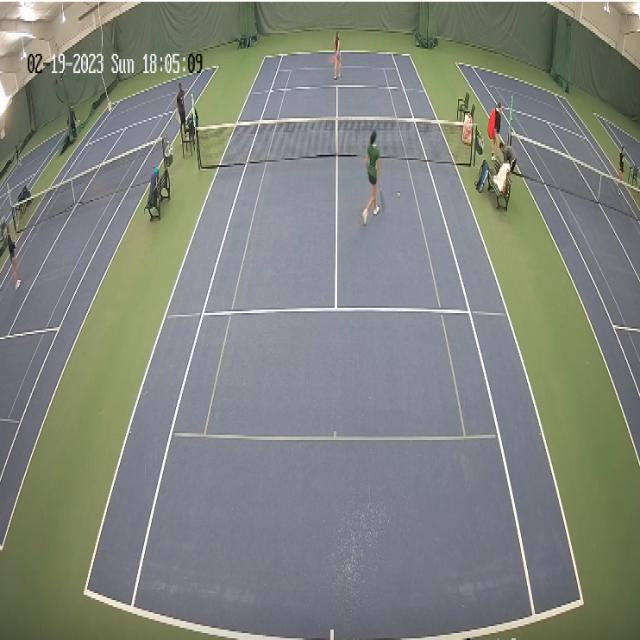ball: (398, 192, 400, 198)
